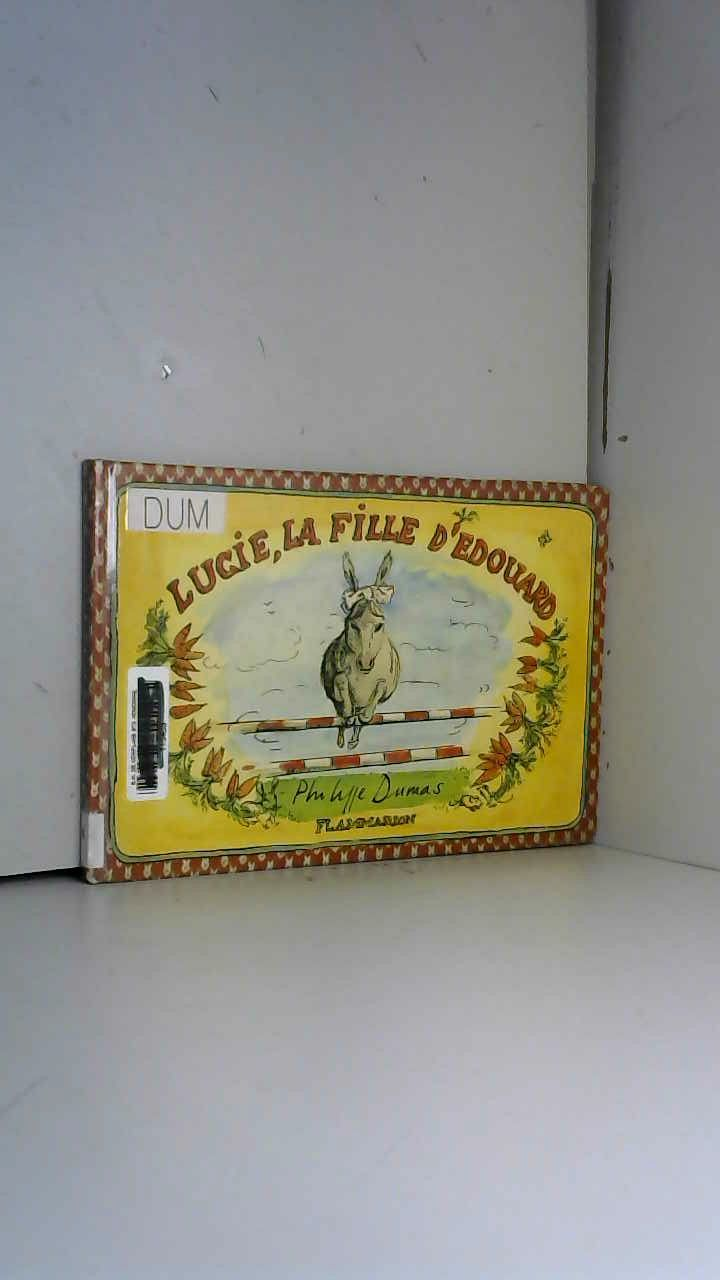book: (57, 429, 623, 913)
